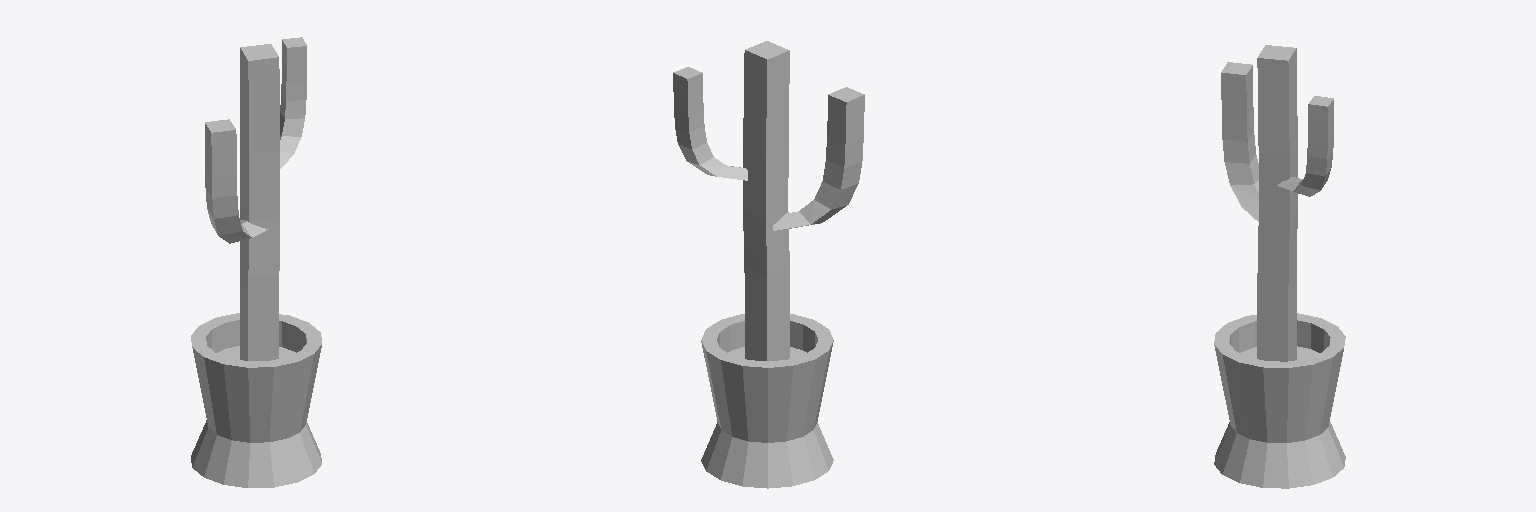
File: cactus_grande_01_000020.obj
The picture shows the model from 3 angles: view 1: azimuth 30°, elevation 25°; view 2: azimuth 150°, elevation 25°; view 3: azimuth 270°, elevation 25°; orthographic projection.
Parts seen in each view (by area): view 1: Cylinder, NurbsPath.001, NurbsPath.002, NurbsPath.003; view 2: Cylinder, NurbsPath.001, NurbsPath.002, NurbsPath.003; view 3: Cylinder, NurbsPath.001, NurbsPath.002, NurbsPath.003.
Boxes of the visible parts, x1,y1,x2,y2 form: Cylinder: [191, 313, 321, 487]; NurbsPath.001: [240, 44, 279, 360]; NurbsPath.002: [205, 119, 267, 243]; NurbsPath.003: [280, 37, 306, 168]; Cylinder: [701, 314, 833, 488]; NurbsPath.001: [743, 41, 789, 360]; NurbsPath.002: [773, 87, 864, 230]; NurbsPath.003: [673, 67, 747, 180]; Cylinder: [1214, 313, 1345, 488]; NurbsPath.001: [1257, 45, 1297, 361]; NurbsPath.002: [1221, 62, 1258, 221]; NurbsPath.003: [1277, 96, 1333, 196].
Bounding box in the file's own units: 1.59 × 4.41 × 1.29.